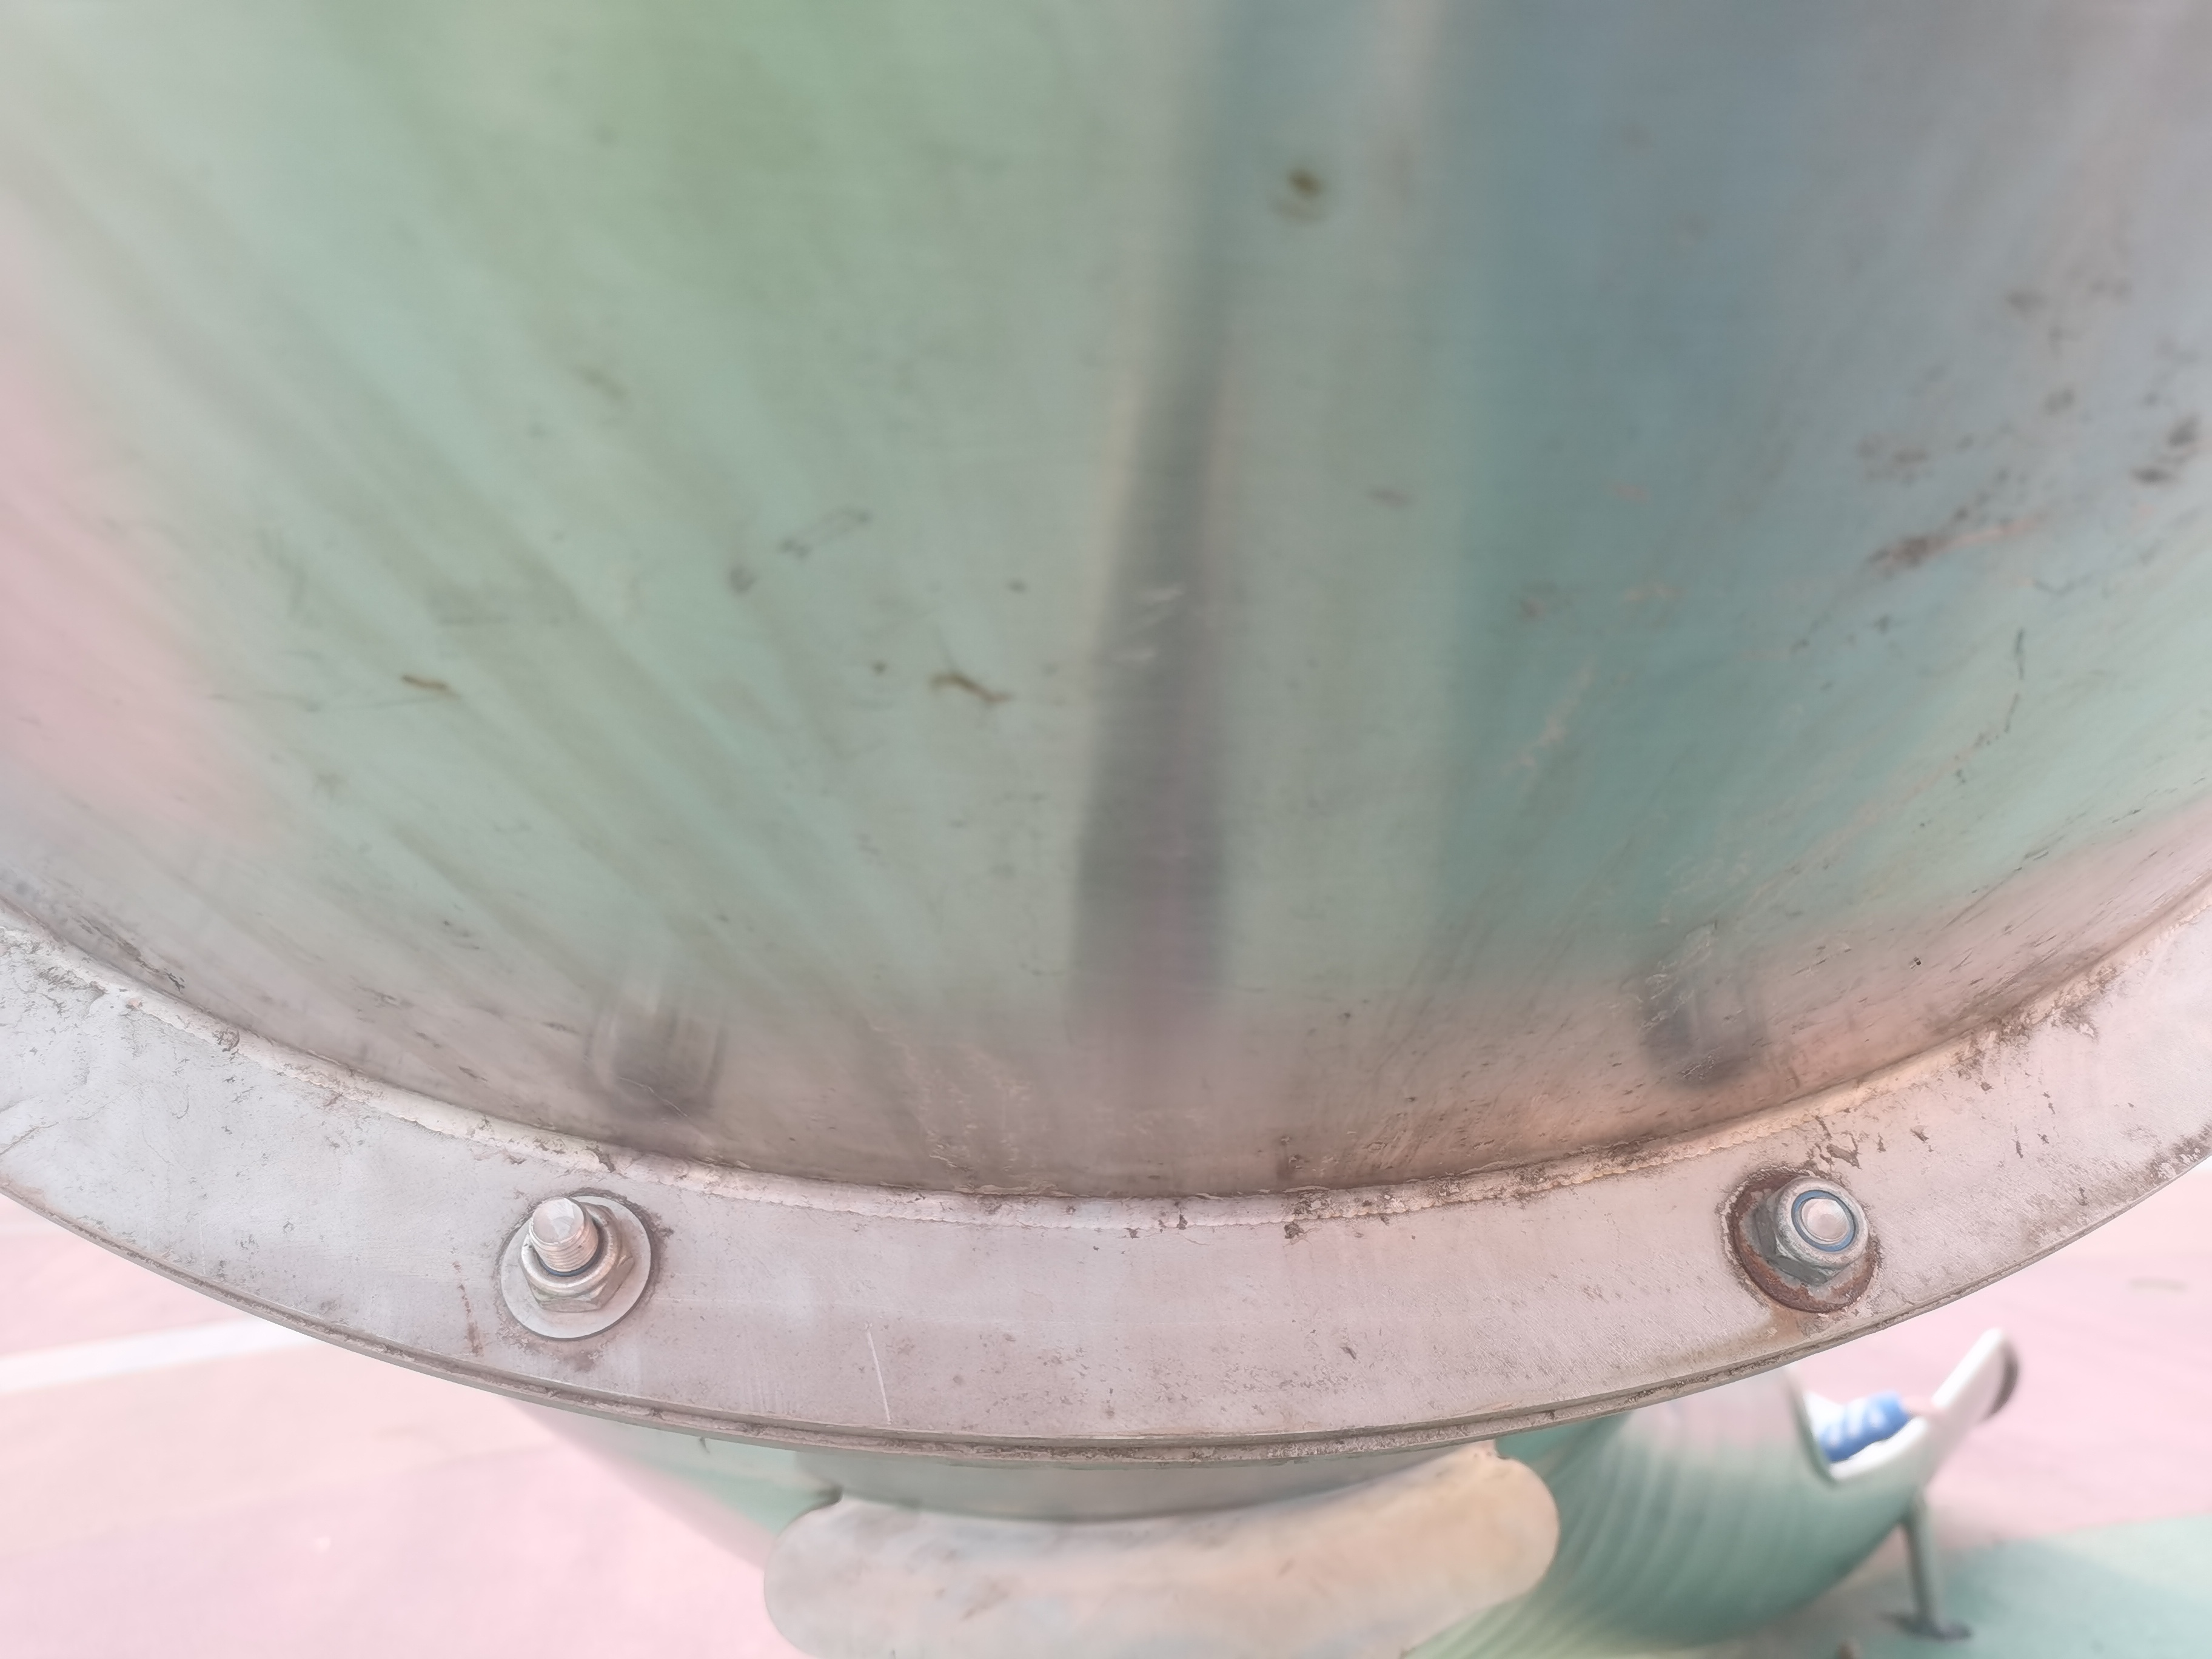bolt_b: (1750, 1168, 1874, 1290), (516, 1199, 639, 1317)
